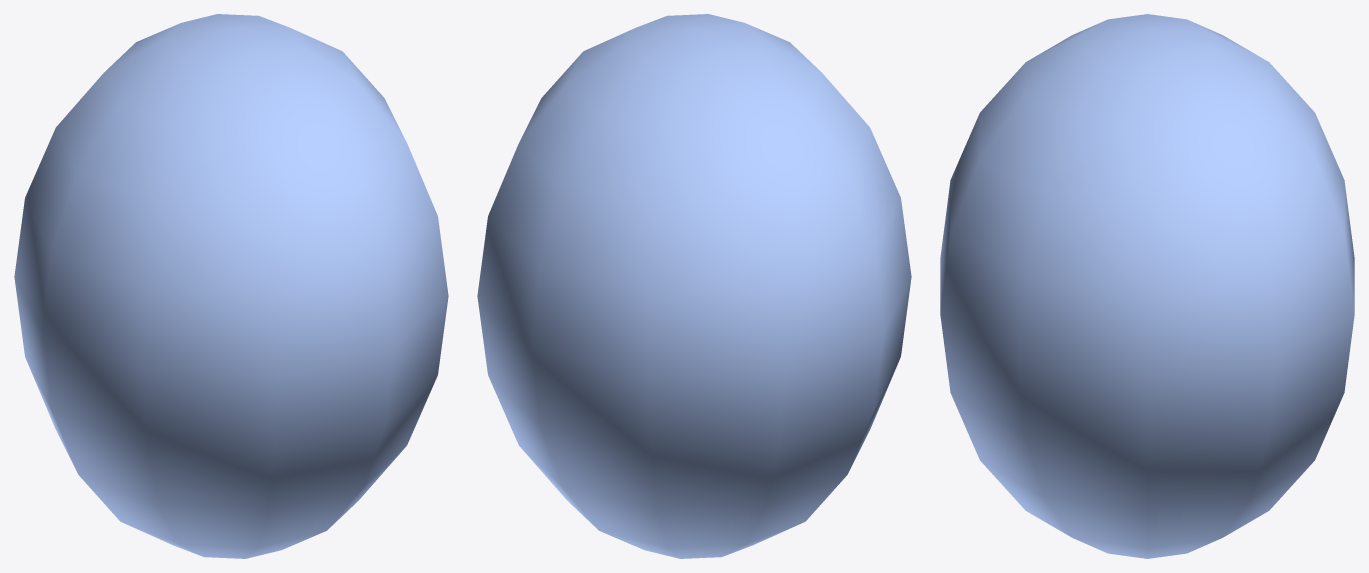
Rendered from crystalkit_stage2.obj.
The picture shows the model from 3 angles, left to right: view 1: azimuth 30°, elevation 25°; view 2: azimuth 150°, elevation 25°; view 3: azimuth 270°, elevation 25°; orthographic projection.
Size of the model in its own units: 2 by 2.6 by 1.9.
